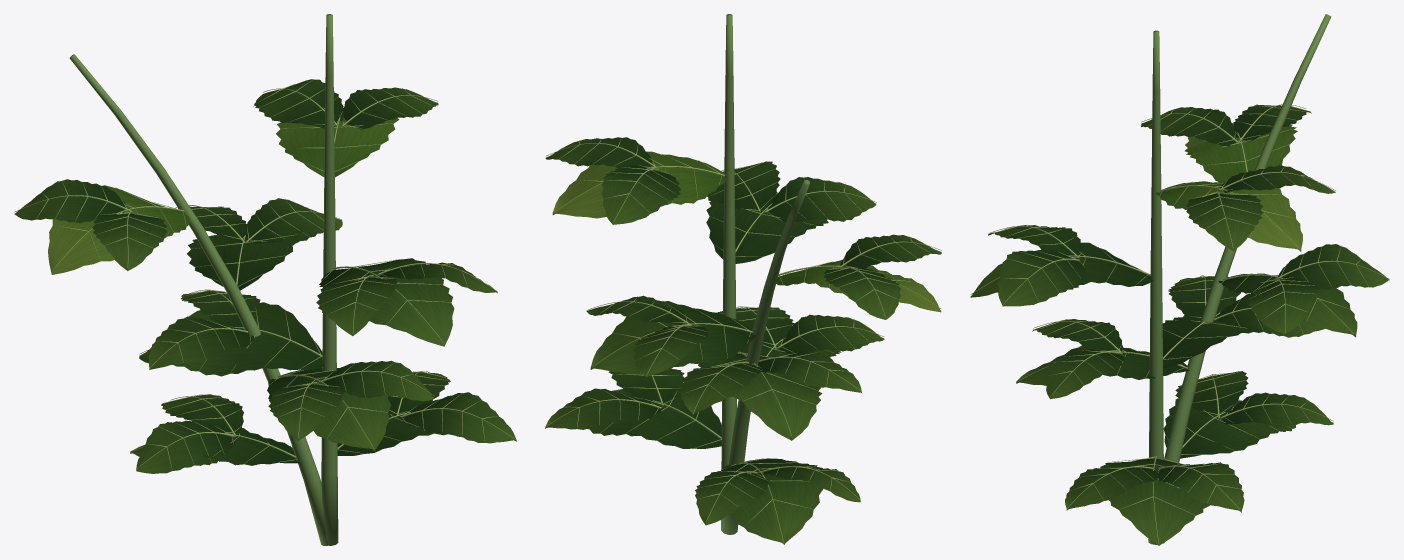
Rendered from rose-05.glb.
3 renders of one model, left to right at view 1: azimuth 30°, elevation 25°; view 2: azimuth 150°, elevation 25°; view 3: azimuth 270°, elevation 25°, orthographic. The views are drawn at different scales.
Parts seen in each view (by area): view 1: rose_stage_05_leaf_veins.008, rose_stage_05_stem_fibres.008, rose_stage_05_raised_midveins.008, rose_stage_05_young_leaf.008; view 2: rose_stage_05_leaf_veins.008, rose_stage_05_raised_midveins.008, rose_stage_05_stem_fibres.008, rose_stage_05_young_leaf.008; view 3: rose_stage_05_leaf_veins.008, rose_stage_05_stem_fibres.008, rose_stage_05_raised_midveins.008, rose_stage_05_young_leaf.008.
Boxes of the visible parts, x1,y1,x2,y2 form: rose_stage_05_leaf_veins.008: (14, 79, 516, 473); rose_stage_05_stem_fibres.008: (69, 14, 338, 545); rose_stage_05_raised_midveins.008: (14, 79, 515, 470); rose_stage_05_young_leaf.008: (48, 117, 399, 274); rose_stage_05_leaf_veins.008: (545, 137, 941, 544); rose_stage_05_raised_midveins.008: (545, 137, 941, 544); rose_stage_05_stem_fibres.008: (721, 14, 809, 534); rose_stage_05_young_leaf.008: (552, 151, 941, 312); rose_stage_05_leaf_veins.008: (970, 104, 1389, 545); rose_stage_05_stem_fibres.008: (1148, 14, 1331, 544); rose_stage_05_raised_midveins.008: (970, 104, 1389, 544); rose_stage_05_young_leaf.008: (1156, 123, 1302, 251).
Bounding box in the file's own units: 0.2181 × 0.2655 × 0.1973.
4 materials, 2 textured.
